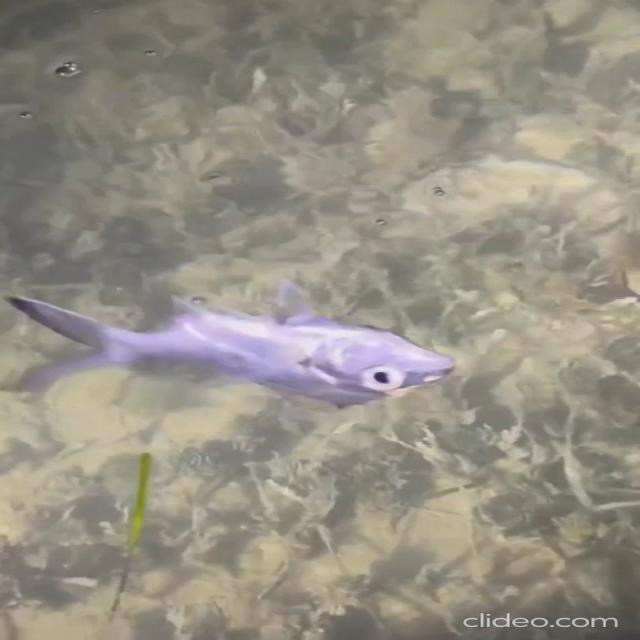fish: (0, 278, 473, 420)
